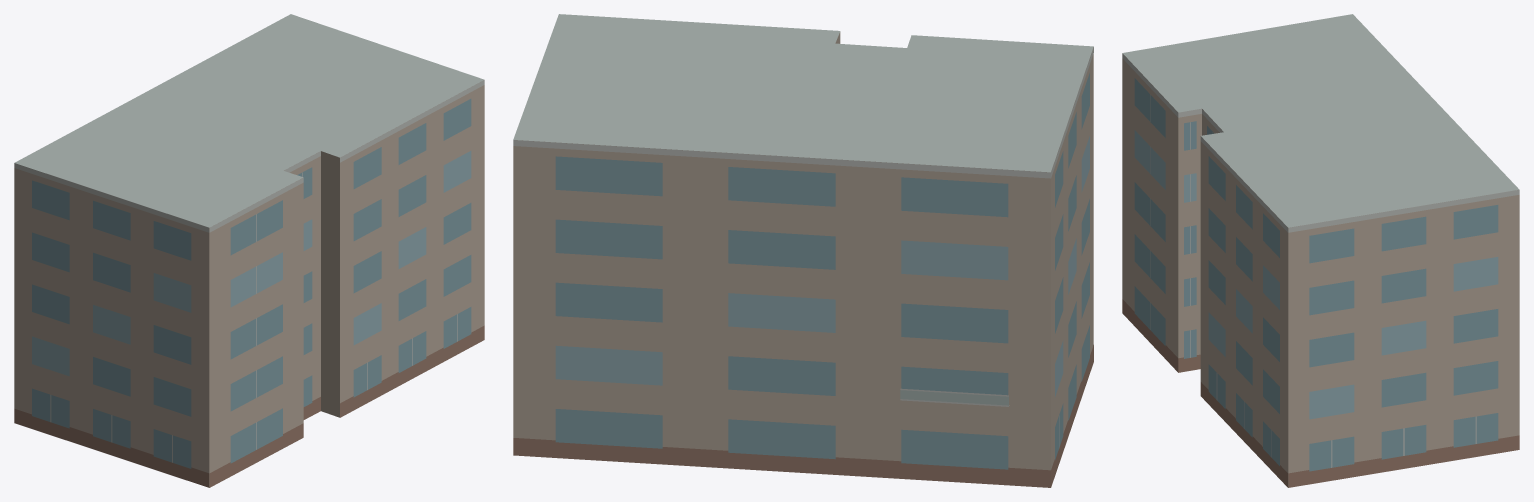
The model's file is survey-upis-32580304.glb.
3 renders of one model, left to right at view 1: azimuth 30°, elevation 25°; view 2: azimuth 150°, elevation 25°; view 3: azimuth 270°, elevation 25°, orthographic. The views are drawn at different scales.
Parts seen in each view (by area): view 1: survey-upis-32580304.tmp; view 2: survey-upis-32580304.tmp; view 3: survey-upis-32580304.tmp.
Boxes of the visible parts, bbox=[...] form: survey-upis-32580304.tmp: bbox=[14, 14, 484, 487]; survey-upis-32580304.tmp: bbox=[513, 14, 1093, 487]; survey-upis-32580304.tmp: bbox=[1122, 14, 1519, 487].
Size of the model in its own units: 22.04 by 12.5 by 17.31.
